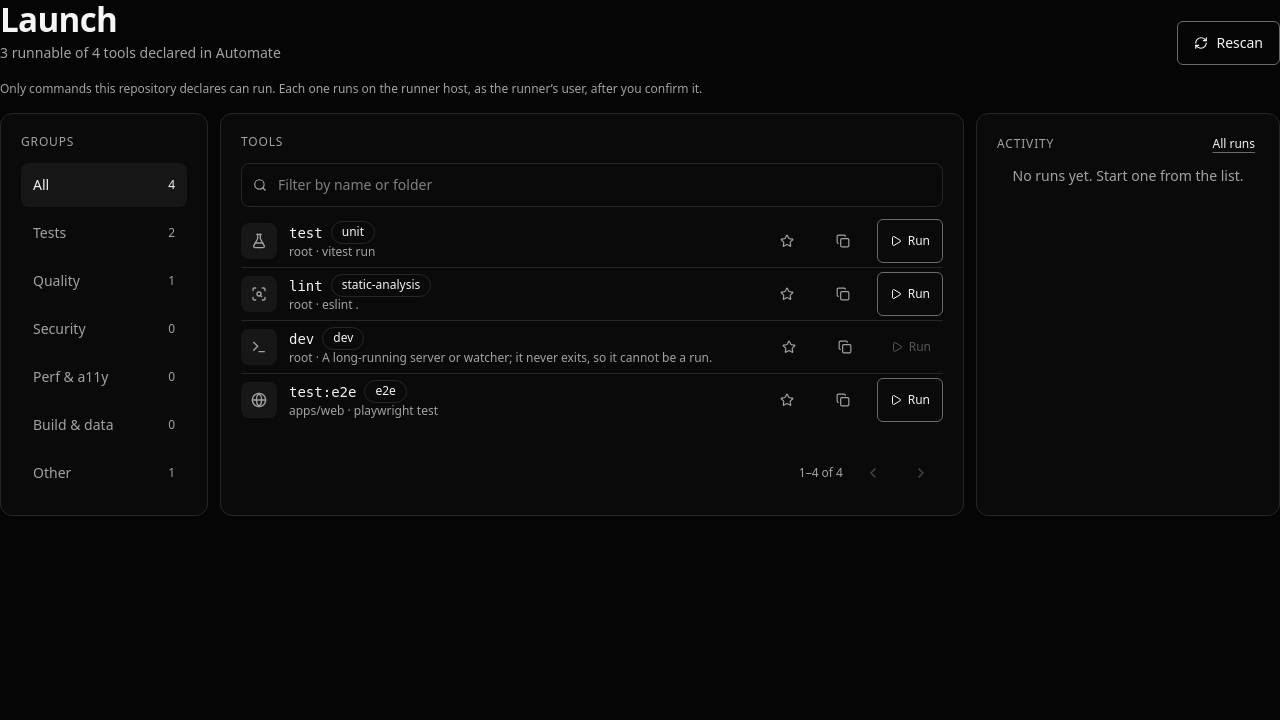
Test: the runner › shows the argv token by token before it runs, and sends only the tool id
Step 1. Click the button with test id "run-script:.:lint" → click(910, 294), box [877,272,943,316]
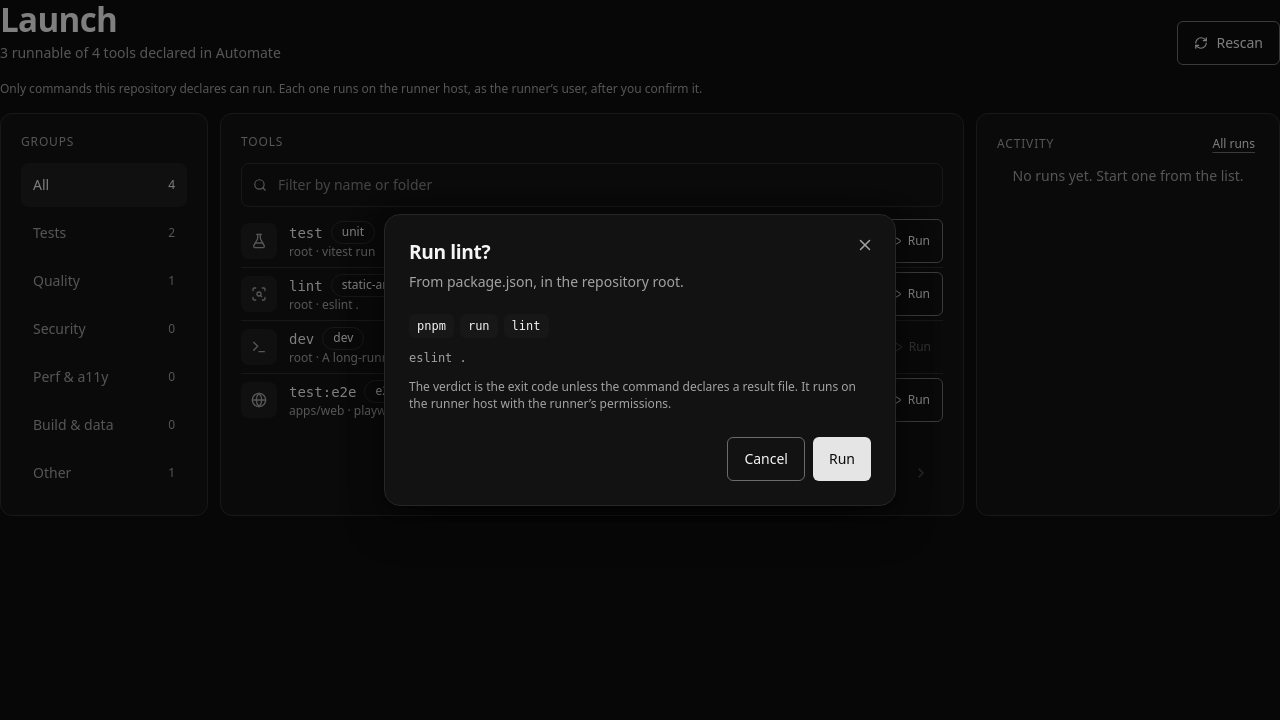
expect the heading "Run lint?" is shown: met, box [409,238,490,265]
expect the list items read "pnpm", "run", "lint", in this order: met, box [409,314,454,338]; [460,314,498,338]; [504,314,548,338]
expect the dialog shows "eslint .": met, box [409,351,467,365]
Step 2. Click the button with test id "confirm-run-submit" → click(842, 459), box [813,437,871,481]
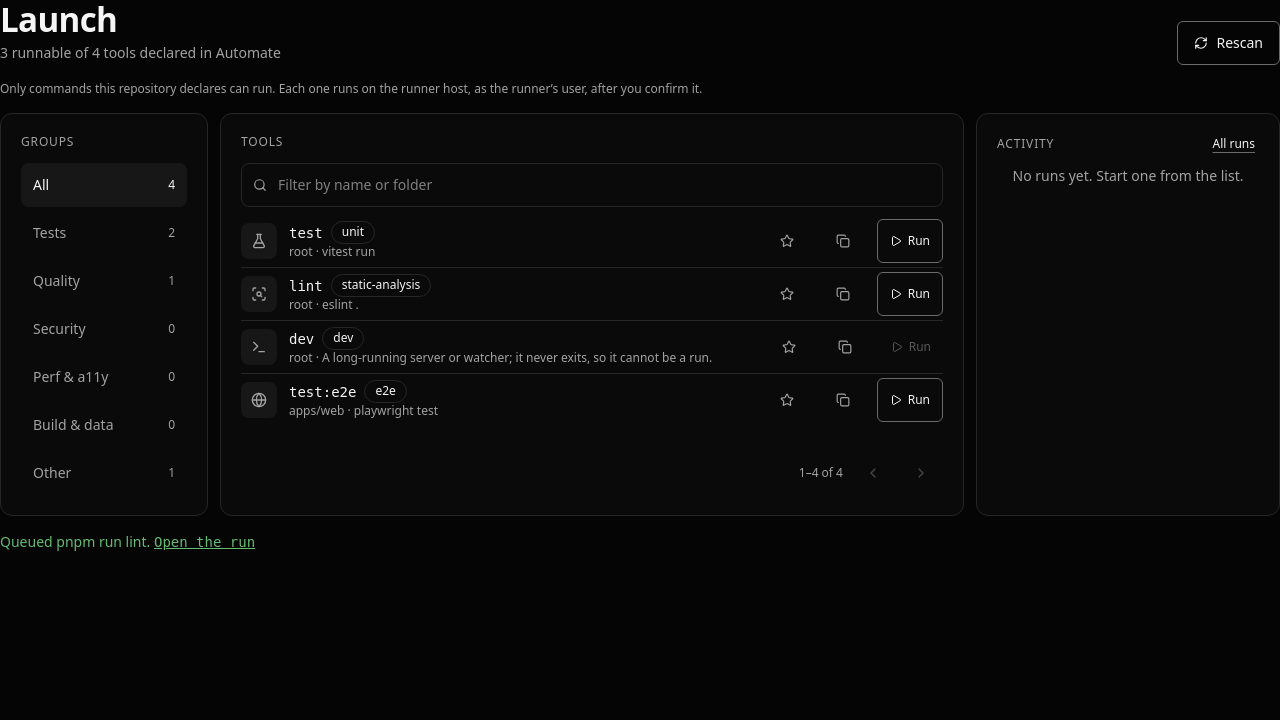
expect the message with test id "runner-started" shows "Queued pnpm run lint.": met, box [0,532,255,551]
